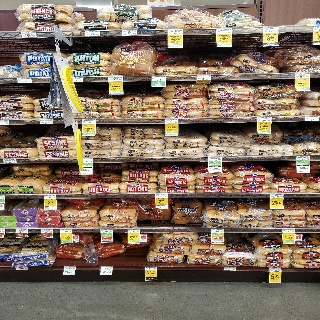All PRICE TAGS: (167, 29, 183, 35), (216, 28, 232, 34), (263, 27, 279, 33), (17, 77, 32, 83), (85, 30, 100, 36), (122, 30, 137, 36), (21, 32, 36, 37), (108, 76, 123, 81), (197, 75, 212, 80), (81, 119, 96, 124), (43, 194, 57, 199), (39, 119, 53, 124), (295, 73, 309, 78), (257, 117, 271, 122), (305, 116, 319, 121), (152, 75, 165, 80), (297, 156, 310, 161), (270, 193, 283, 198), (282, 228, 295, 233), (60, 228, 72, 233), (128, 228, 140, 233), (165, 119, 179, 123), (270, 267, 281, 272), (15, 229, 28, 233), (40, 229, 53, 233), (3, 159, 16, 163), (208, 157, 221, 161), (155, 193, 168, 197), (100, 229, 113, 233), (211, 229, 224, 233), (64, 266, 76, 270), (145, 266, 157, 270), (224, 267, 236, 271), (0, 120, 9, 125), (74, 77, 83, 82), (82, 158, 93, 162), (101, 266, 112, 270), (16, 268, 28, 270)
